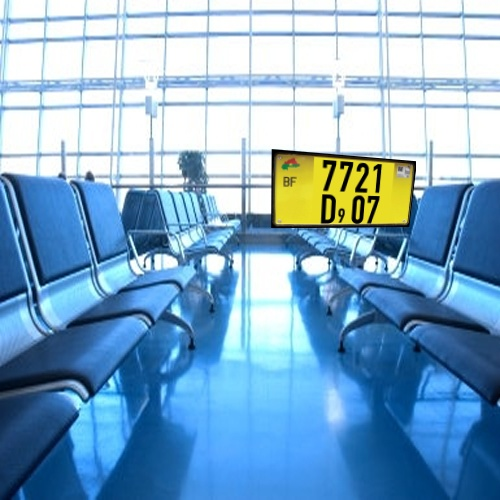plate: (256, 139, 429, 249)
